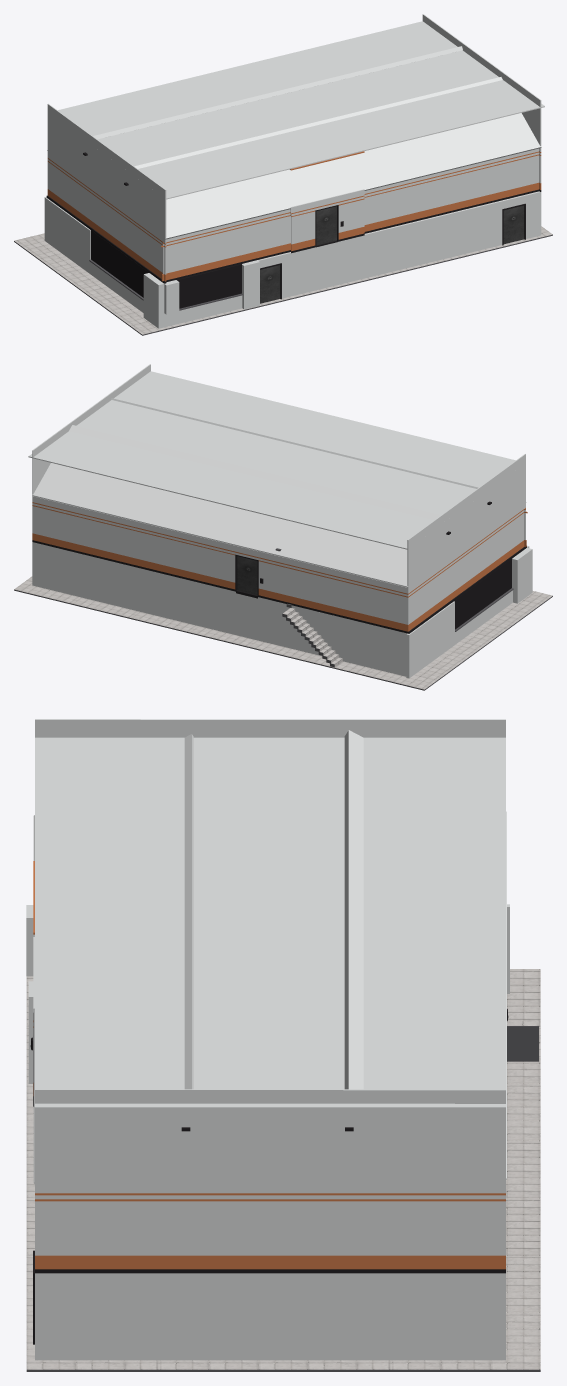
The model's file is SCP Cafeteria.obj.
3 renders of one model, top to bottom at view 1: azimuth 30°, elevation 25°; view 2: azimuth 150°, elevation 25°; view 3: azimuth 270°, elevation 25°, orthographic. The views are drawn at different scales.
Visible parts, largest first — view 1: Part722, Part650, Part654, Part733, Part628, Part665, Part793, Part724, Part765, Part666, Part720, Part717 (+21 smaller); view 2: Part722, Part765, Part774, Part733, Part785, Part780, Part787, Part793, Part724, Part720, Part784, Part717 (+11 smaller); view 3: Part722, Part717, Part693, Part716, Part733, Part765, Part712, Part650, Part713, Part715, Part714, Part718 (+4 smaller).
Boxes of the visible parts, x1,y1,x2,y2 form: Part722: [47, 21, 544, 199]; Part650: [125, 77, 541, 239]; Part654: [280, 200, 502, 298]; Part733: [47, 103, 166, 243]; Part628: [364, 155, 539, 224]; Part665: [162, 216, 290, 274]; Part793: [44, 196, 90, 273]; Part724: [49, 163, 166, 274]; Part765: [47, 46, 462, 153]; Part666: [177, 263, 242, 308]; Part720: [91, 230, 148, 297]; Part717: [422, 14, 541, 151]; Part722: [28, 371, 525, 549]; Part765: [32, 425, 448, 587]; Part774: [32, 542, 406, 676]; Part733: [407, 454, 525, 593]; Part785: [33, 506, 235, 582]; Part780: [258, 561, 410, 624]; Part787: [33, 496, 410, 593]; Part793: [406, 601, 454, 678]; Part724: [407, 513, 524, 624]; Part720: [454, 559, 511, 629]; Part784: [33, 533, 235, 589]; Part717: [32, 364, 150, 501]; Part722: [35, 737, 505, 1109]; Part717: [35, 1089, 505, 1193]; Part693: [35, 1273, 497, 1360]; Part716: [35, 1201, 505, 1255]; Part733: [35, 719, 505, 737]; Part765: [344, 730, 506, 1179]; Part712: [35, 1255, 505, 1269]; Part650: [33, 734, 193, 1184]; Part713: [35, 1195, 505, 1199]; Part715: [35, 1269, 505, 1273]; Part714: [35, 1193, 505, 1195]; Part718: [35, 1199, 505, 1201].
Size of what is drawn, in the model's own units: 88.2 by 29.1 by 47.83.
20 materials, 10 textured.
